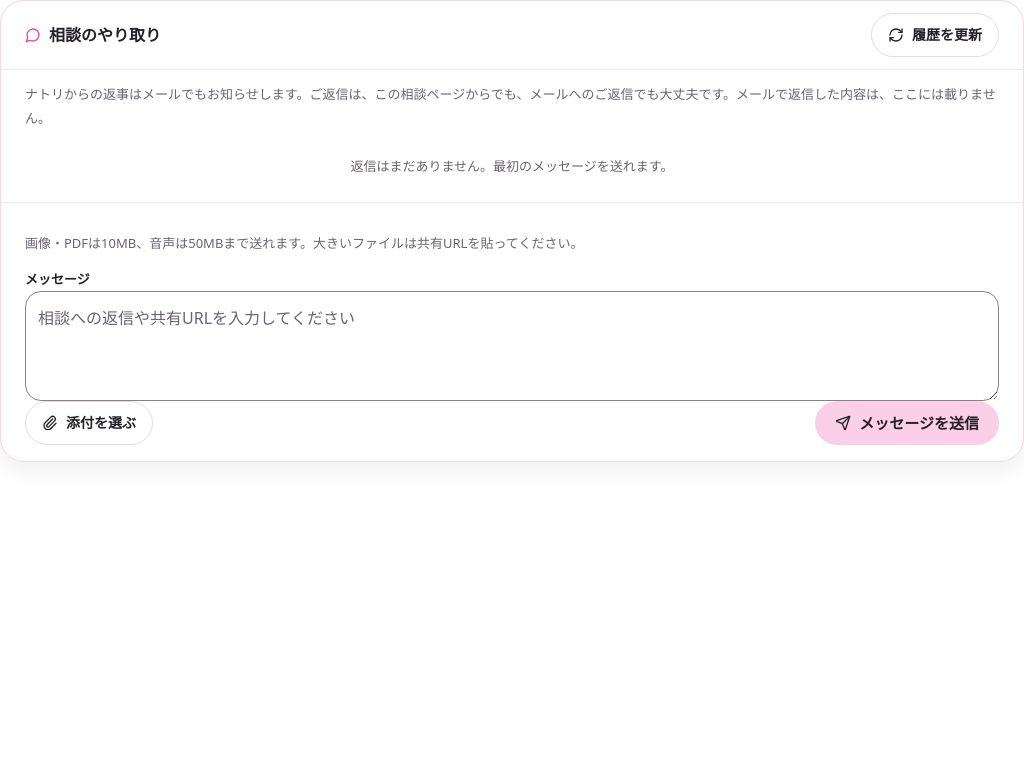
it: consultation current actor and operation ownership › fresh freeze cannot overwrite another durable active envelope
Type "New editable draft" into the text box at (512, 346), box top-left (25, 291), bottom-right (999, 401)
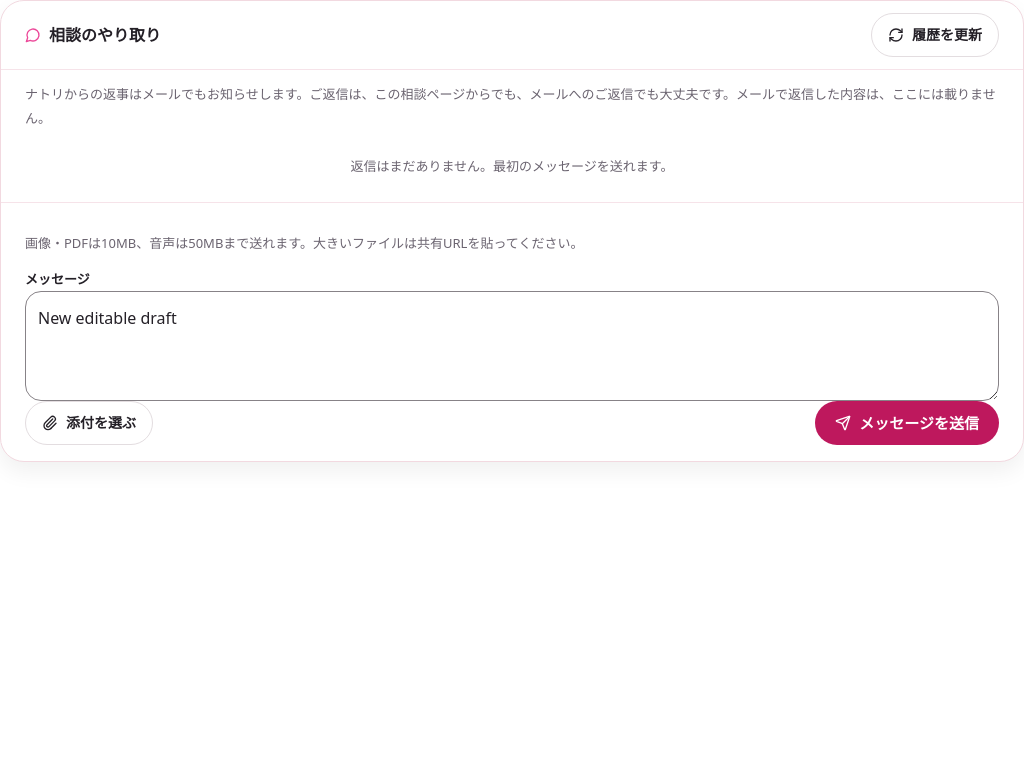
Click the button "メッセージを送信" at (907, 423), box top-left (815, 401), bottom-right (999, 445)
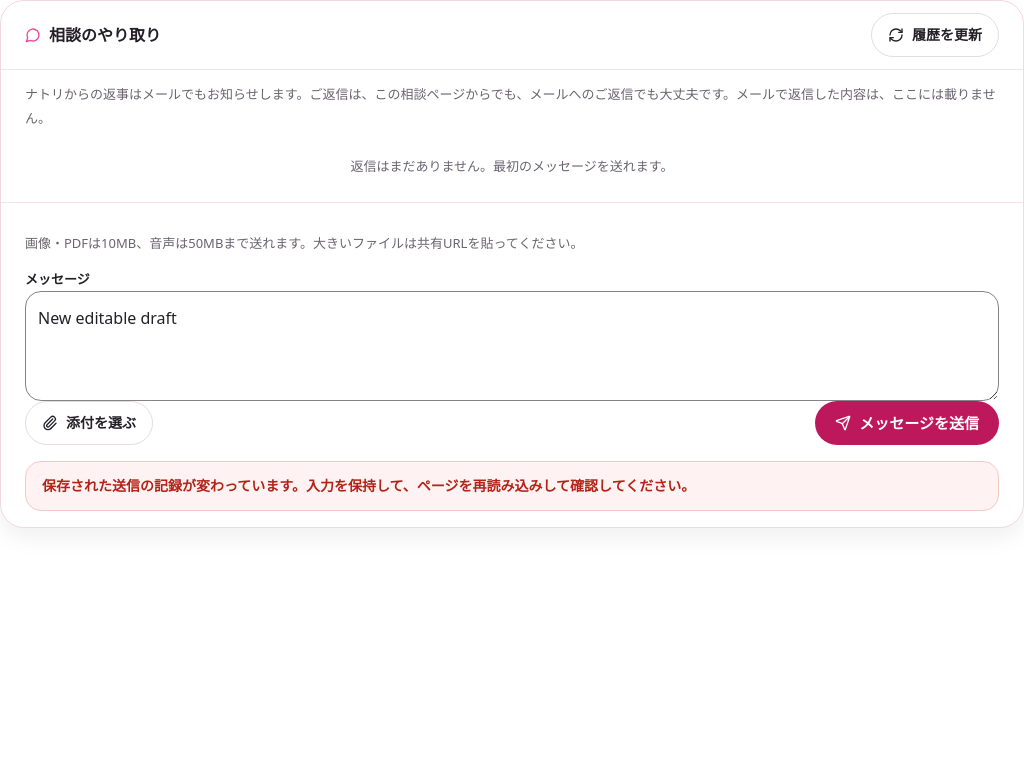
Now the message is shown, box top-left (25, 461), bottom-right (999, 511)
